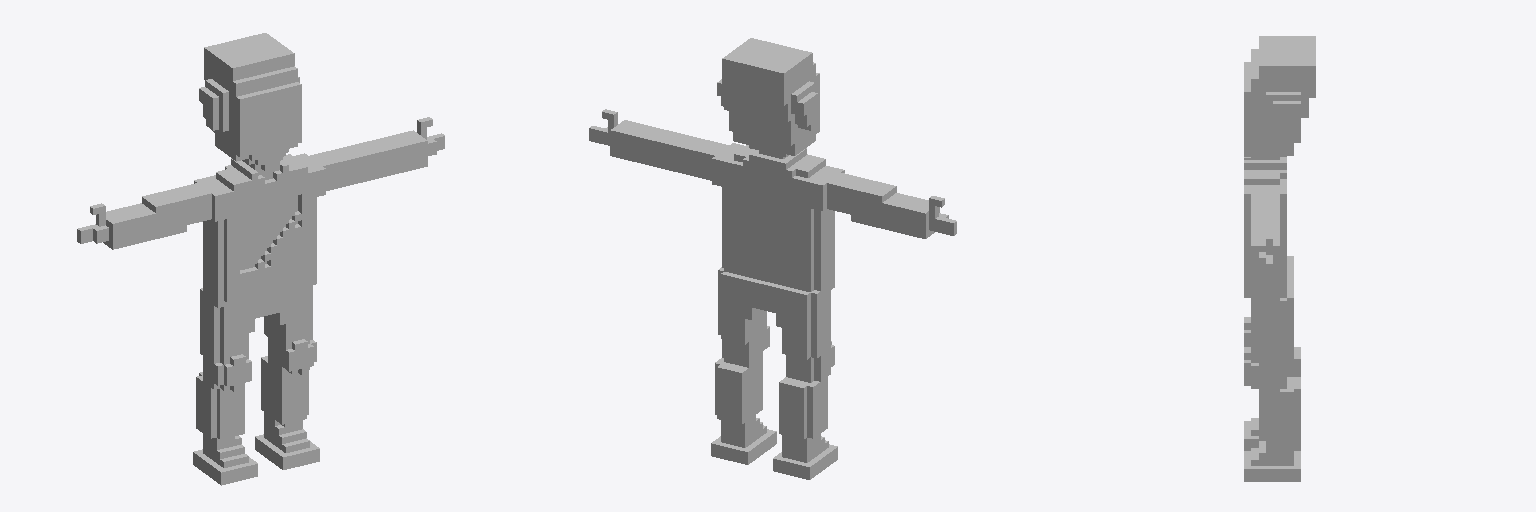
The model's file is pl 2 anim 1.obj.
The picture shows the model from 3 angles: view 1: azimuth 30°, elevation 25°; view 2: azimuth 150°, elevation 25°; view 3: azimuth 270°, elevation 25°; orthographic projection.
Parts seen in each view (by area): view 1: object 1; view 2: object 1; view 3: object 1.
Part boxes in pixels (x1,y1,x2,y2): object 1: (77,33,444,485); object 1: (589,38,956,479); object 1: (1244,36,1315,481).
Bounding box in the file's own units: 5.9 × 6.3 × 1.